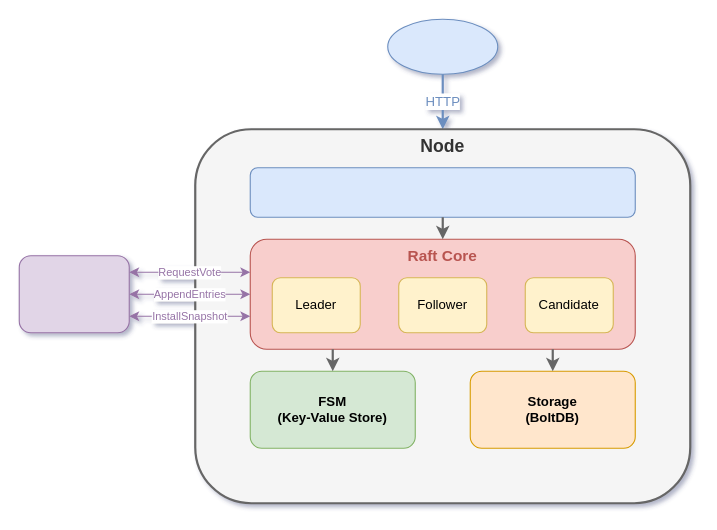
Image size: 717x530. Some labels were removed from this diagram. The shapes that lost their labels are listed below. From the top down, each one's centre as x and y in pixels, then its label:
At (x=442, y=46): "Client".
At (x=442, y=192): "HTTP API".
At (x=73, y=294): "Other Nodes (gRPC)".
